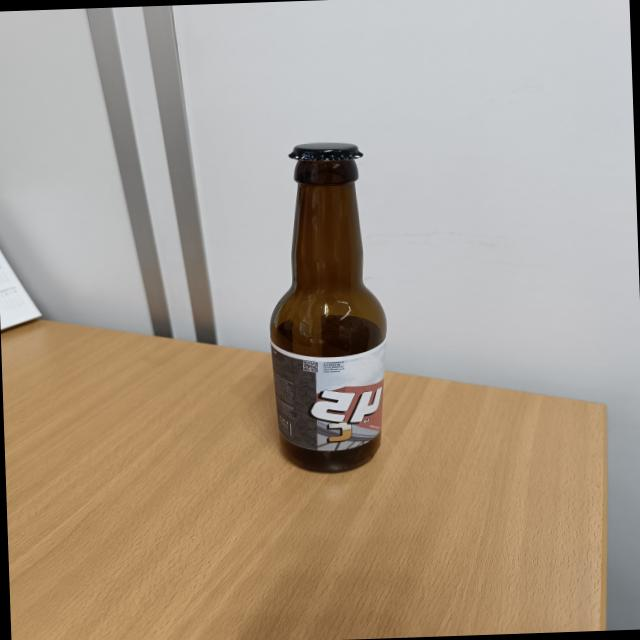Bottle: (258, 137, 392, 476)
Cap: (282, 138, 371, 165)
Label: (272, 342, 388, 452)
